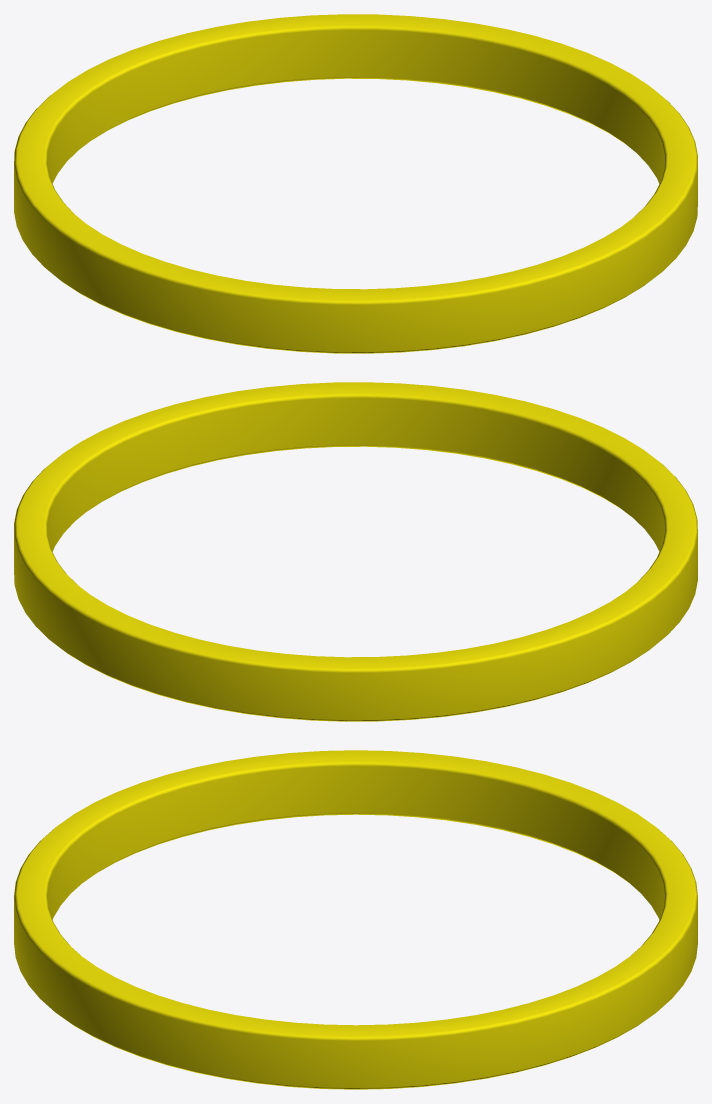
3 views of the same model, one above another, from view 1: azimuth 30°, elevation 25°; view 2: azimuth 150°, elevation 25°; view 3: azimuth 270°, elevation 25° (orthographic).
Visible parts, largest first — view 1: seal_body; view 2: seal_body; view 3: seal_body.
Part boxes in pixels (<box>): seal_body: <box>14,14,697,353</box>; seal_body: <box>14,382,697,721</box>; seal_body: <box>14,750,697,1089</box>.
Bounding box in the file's own units: 0.1219 × 0.0105 × 0.1219.
